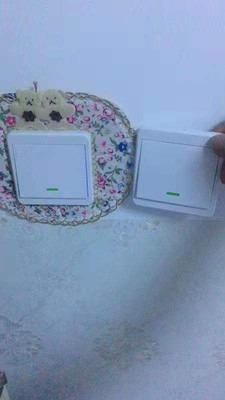switch: (141, 139, 212, 210), (20, 145, 78, 203)
